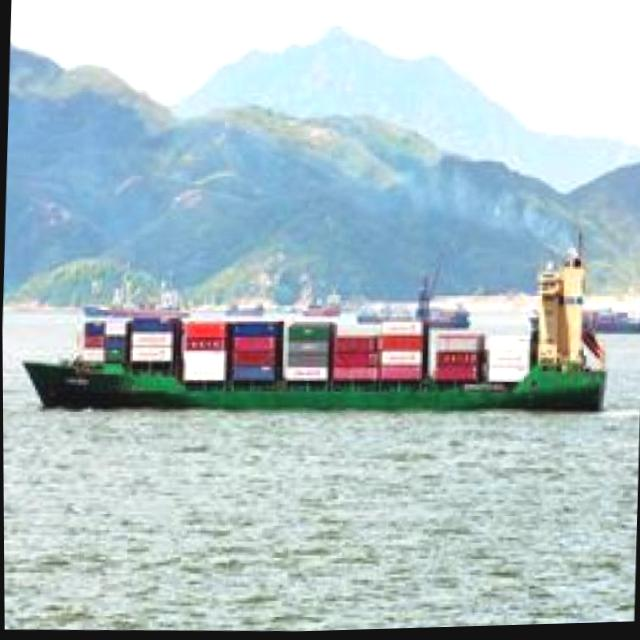ship2: (22, 262, 605, 417)
